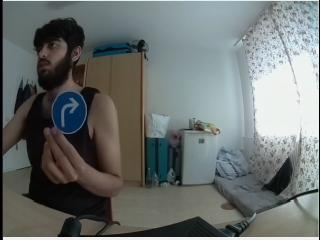right: (51, 92, 85, 134)
